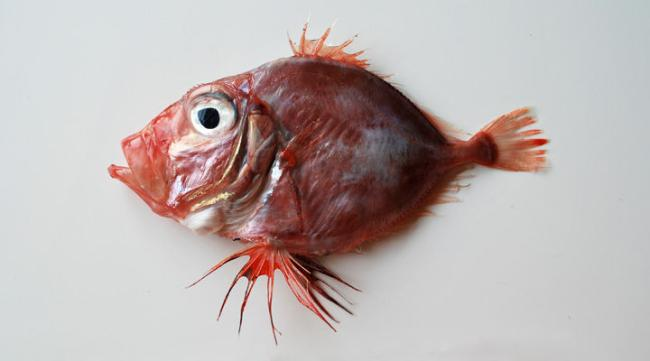fish: (108, 14, 551, 344)
